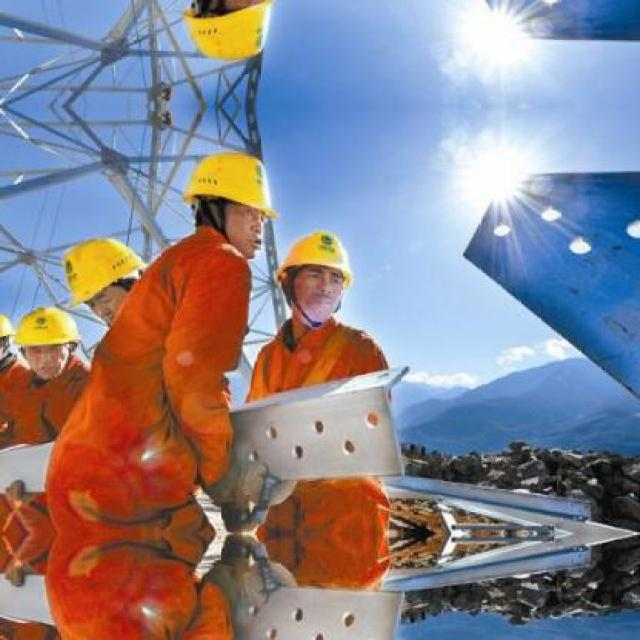helmet: (174, 140, 280, 262), (52, 230, 152, 324), (274, 221, 357, 323), (173, 0, 281, 72), (10, 299, 85, 375)
